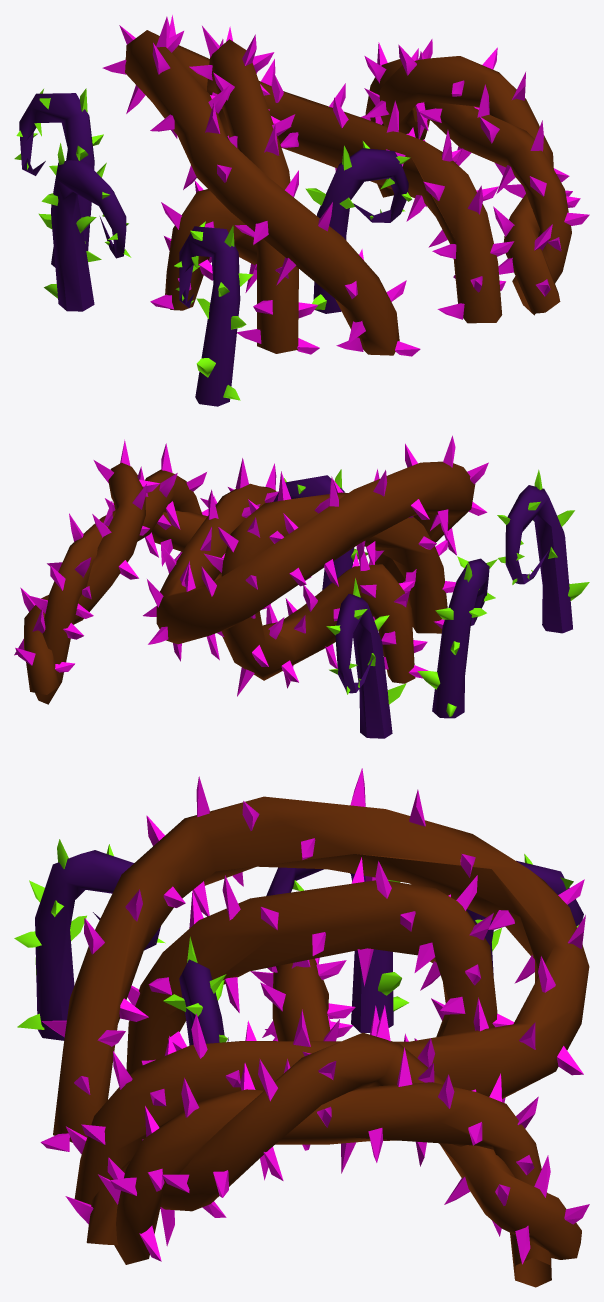
The model's file is vines (1).fbx.
The picture shows the model from 3 angles, top to bottom: view 1: azimuth 30°, elevation 25°; view 2: azimuth 150°, elevation 25°; view 3: azimuth 270°, elevation 25°; orthographic projection. The views are drawn at different scales.
Parts seen in each view (by area): view 1: Bramble1; view 2: Bramble1; view 3: Bramble1.
Part boxes in pixels (<box>): Bramble1: <box>14,15,589,406</box>; Bramble1: <box>14,435,589,738</box>; Bramble1: <box>14,768,589,1287</box>.
Size of the model in its own units: 1317 by 753 by 1149.
